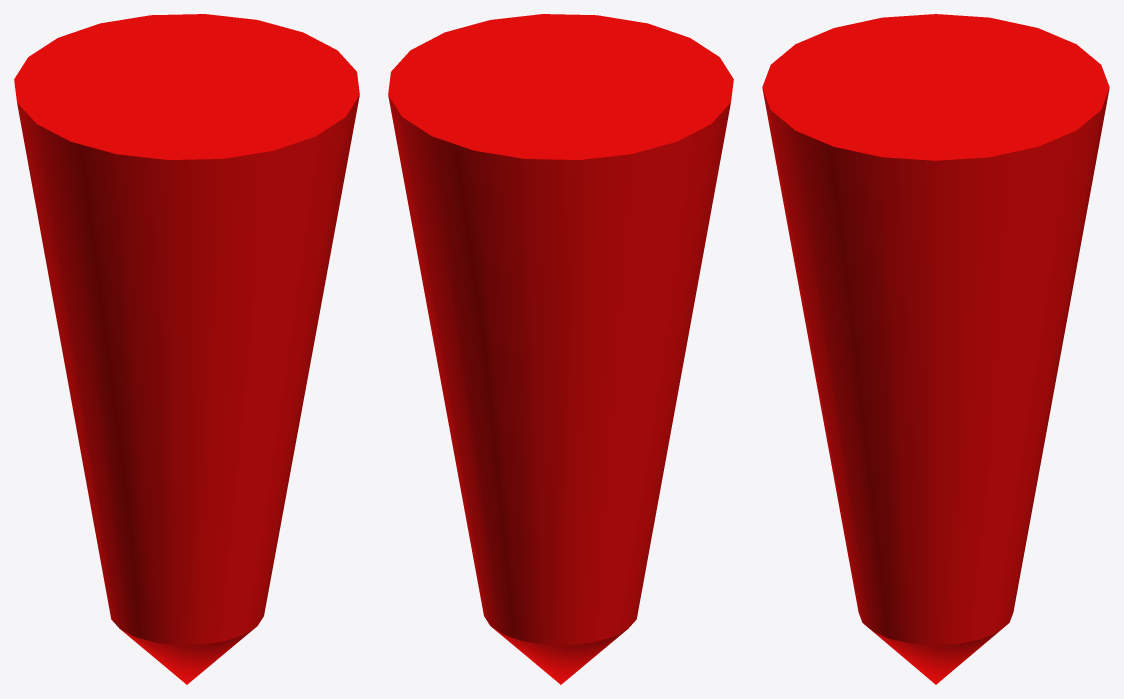
The model's file is BlueLiquid.fbx.
3 renders of one model, left to right at view 1: azimuth 30°, elevation 25°; view 2: azimuth 150°, elevation 25°; view 3: azimuth 270°, elevation 25°, orthographic.
Visible parts, largest first — view 1: pCylinder3; view 2: pCylinder3; view 3: pCylinder3.
Part boxes in pixels (left/top/right/bottom): pCylinder3: left=14, top=14, right=359, bottom=684; pCylinder3: left=388, top=14, right=733, bottom=684; pCylinder3: left=762, top=14, right=1109, bottom=684.
Size of the model in its own units: 2.79 by 5.29 by 2.79.
